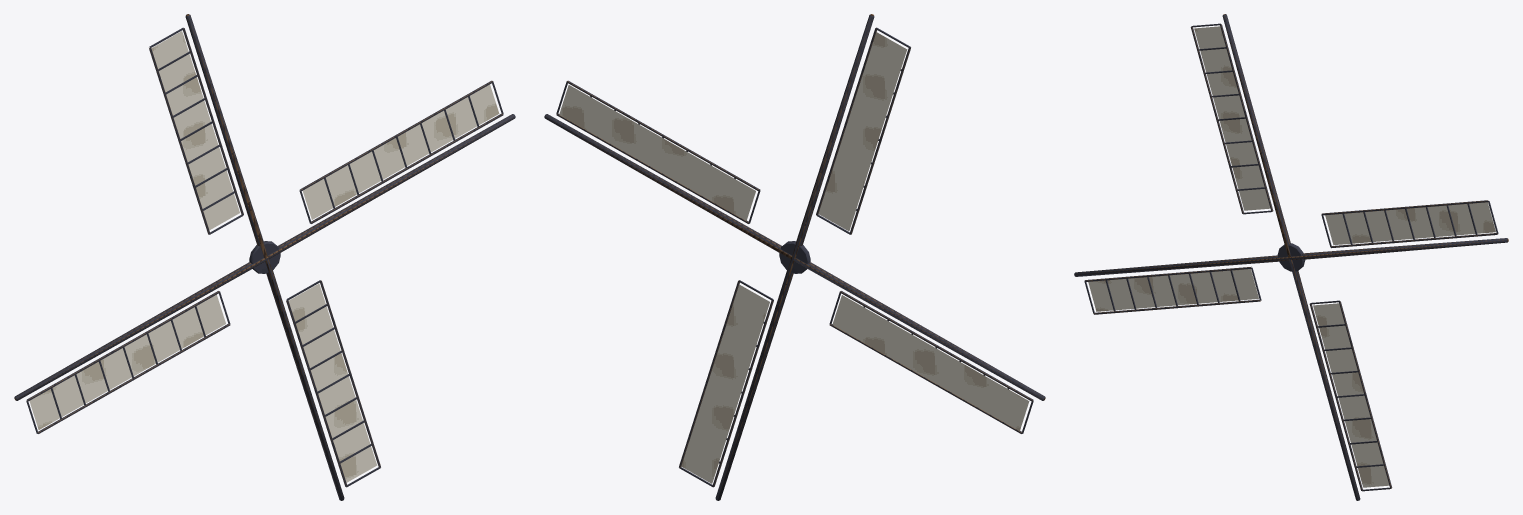
Rendered from windmill_blades_0.glb.
3 renders of one model, left to right at view 1: azimuth 30°, elevation 25°; view 2: azimuth 150°, elevation 25°; view 3: azimuth 330°, elevation 25°, orthographic. The views are drawn at different scales.
Parts seen in each view (by area): view 1: windmill_blades_1; view 2: windmill_blades_1; view 3: windmill_blades_1.
Boxes of the visible parts, box(x1,y1,x2,y2) form: windmill_blades_1: box(14, 14, 515, 500); windmill_blades_1: box(544, 14, 1045, 500); windmill_blades_1: box(1074, 14, 1508, 500).
Bounding box in the file's own units: 9.95 × 9.95 × 0.1535.
Materials: 4 (4 with a texture image).
